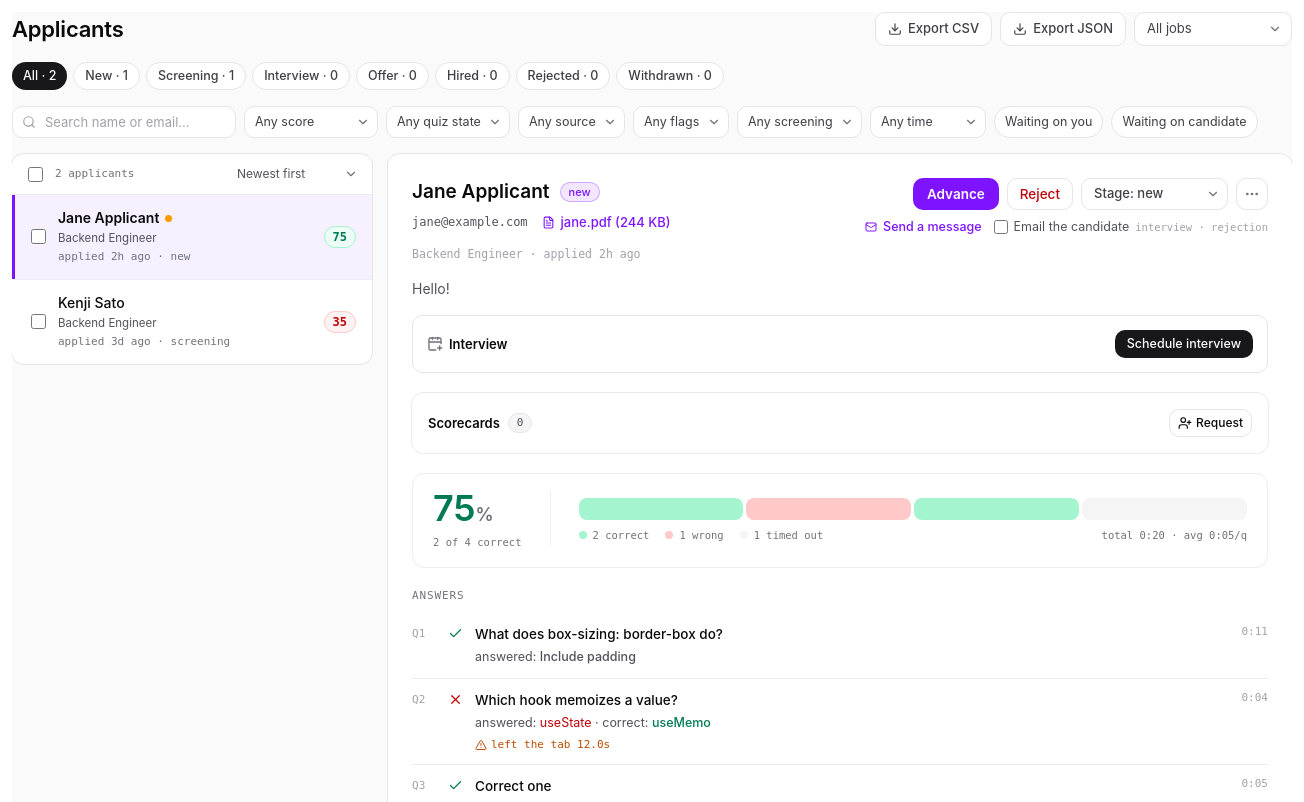
it: ApplicantsPage › the toast stays quiet about email on a move that sends none
This screenshot has width=1304, height=802.
Expected: the heading "Jane Applicant" is shown, [412, 178, 550, 206]
What coordinates should you click on to do the following:
click the checkbox labelled "Email the candidate interview · rejection"
I would click on:
 (1001, 227)
Its box is [994, 220, 1008, 234].
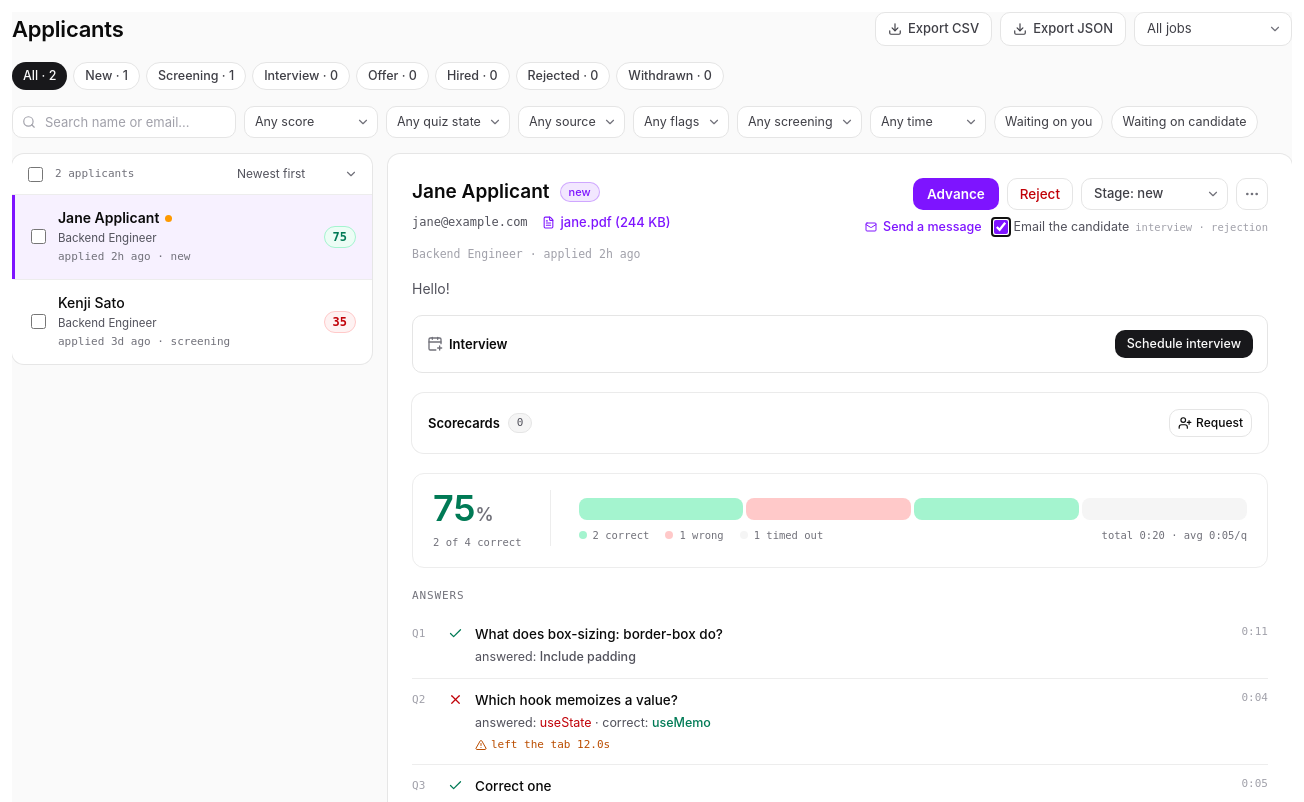
What coordinates should you click on to do the following:
click the button "Advance"
I would click on:
 (956, 194)
Its box is [913, 178, 999, 210].
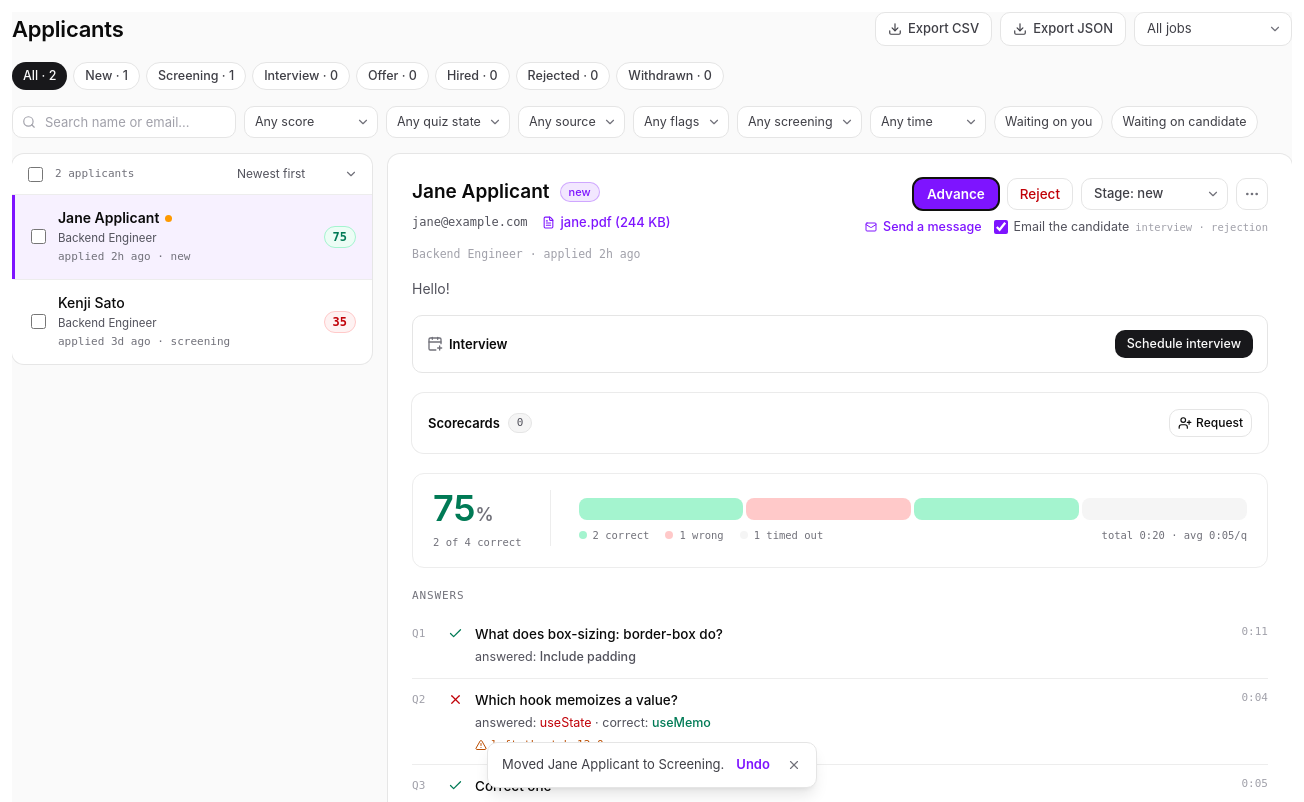
Expected: the message does not show "Email sent", [487, 742, 817, 788]
Result: the message shows "Moved Jane Applicant to Screening." at [502, 756, 724, 772]
